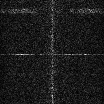wifi: (1, 7, 104, 12)
